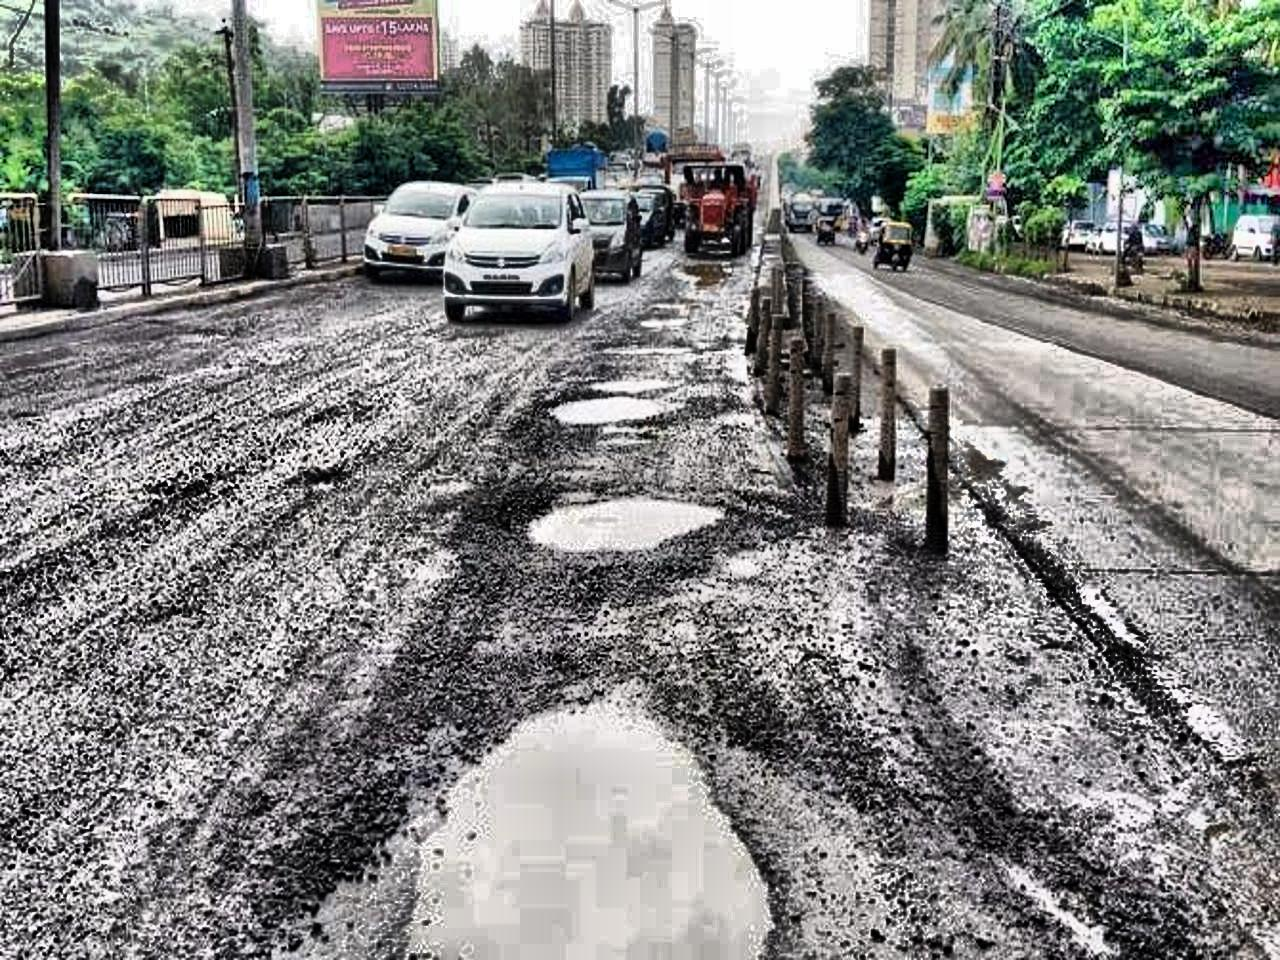pothole: (340, 683, 790, 960), (517, 483, 730, 566), (543, 388, 680, 432), (590, 333, 698, 363), (585, 371, 680, 395), (647, 291, 698, 318)
